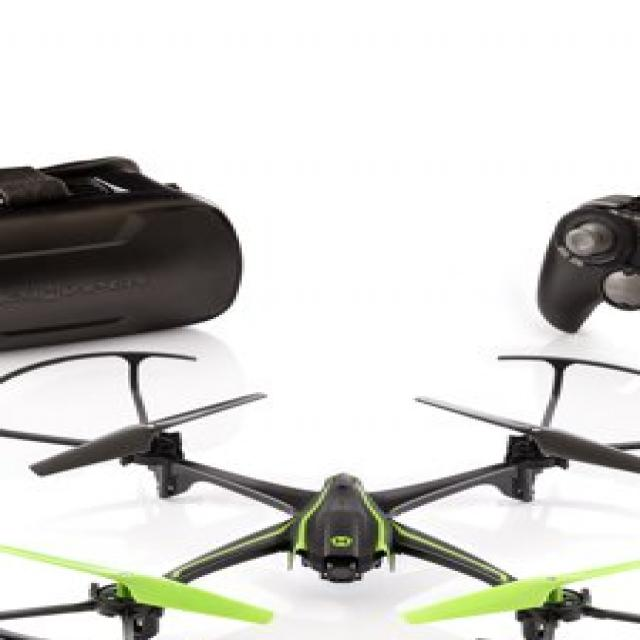drone: (0, 345, 640, 640)
